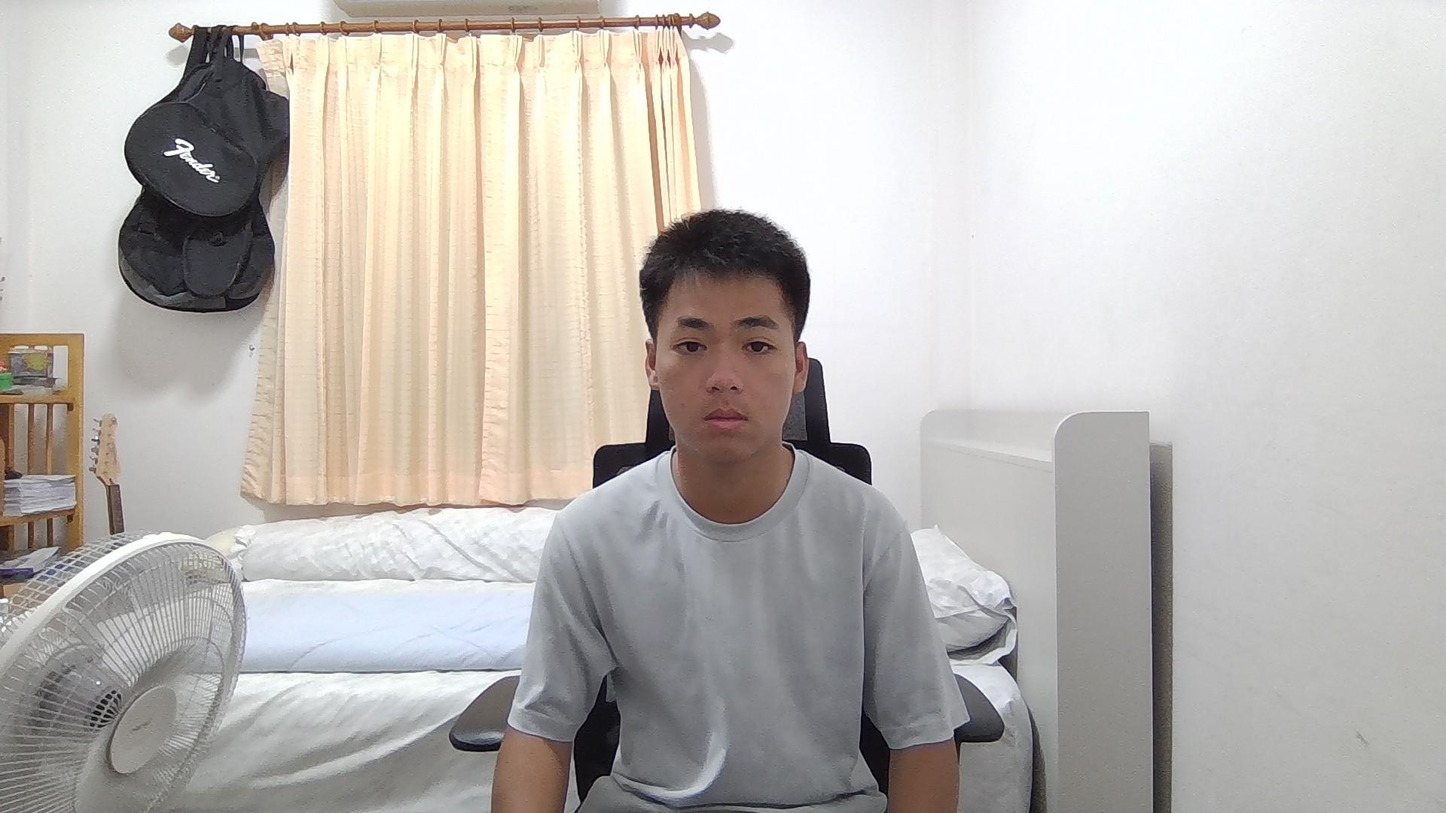GoodPosture: (493, 209, 966, 812), (513, 210, 959, 748)
